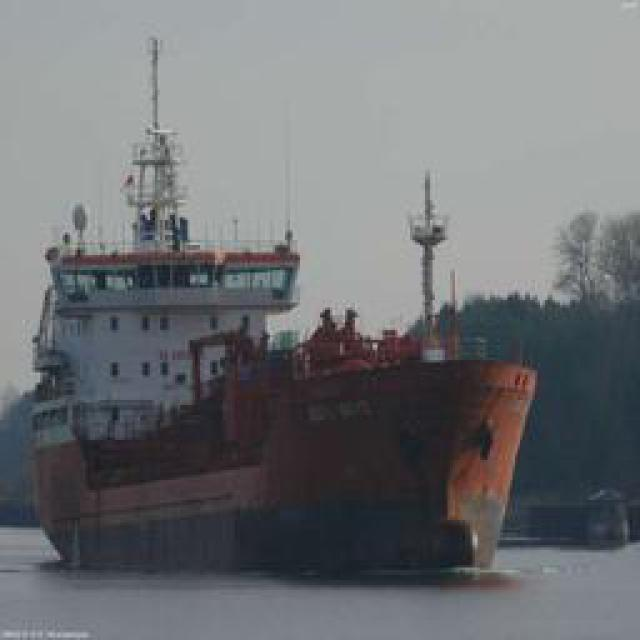Ship: (24, 50, 549, 590)
